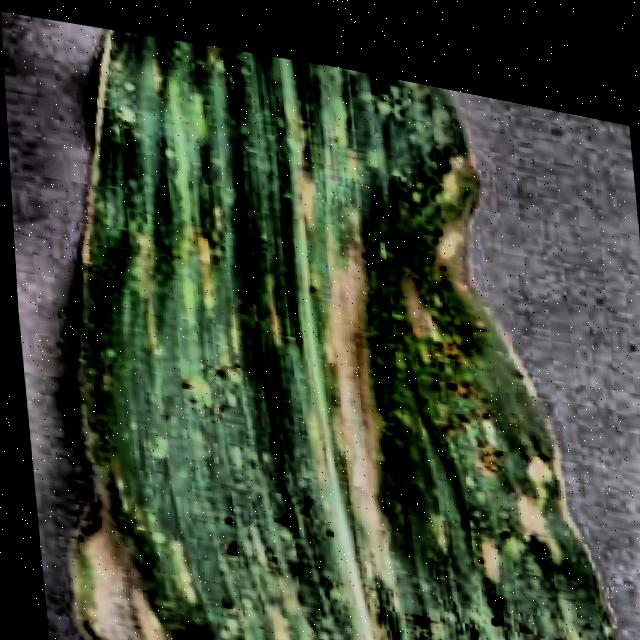blight: (43, 9, 602, 640)
